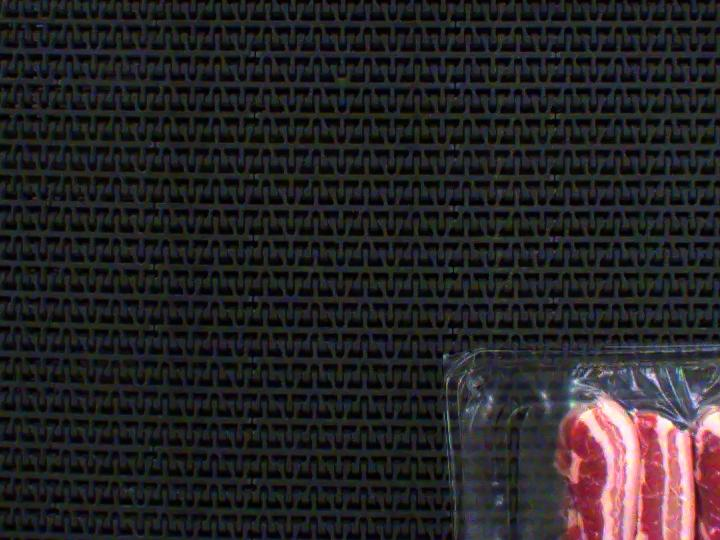unsealed: (477, 355, 720, 540)
